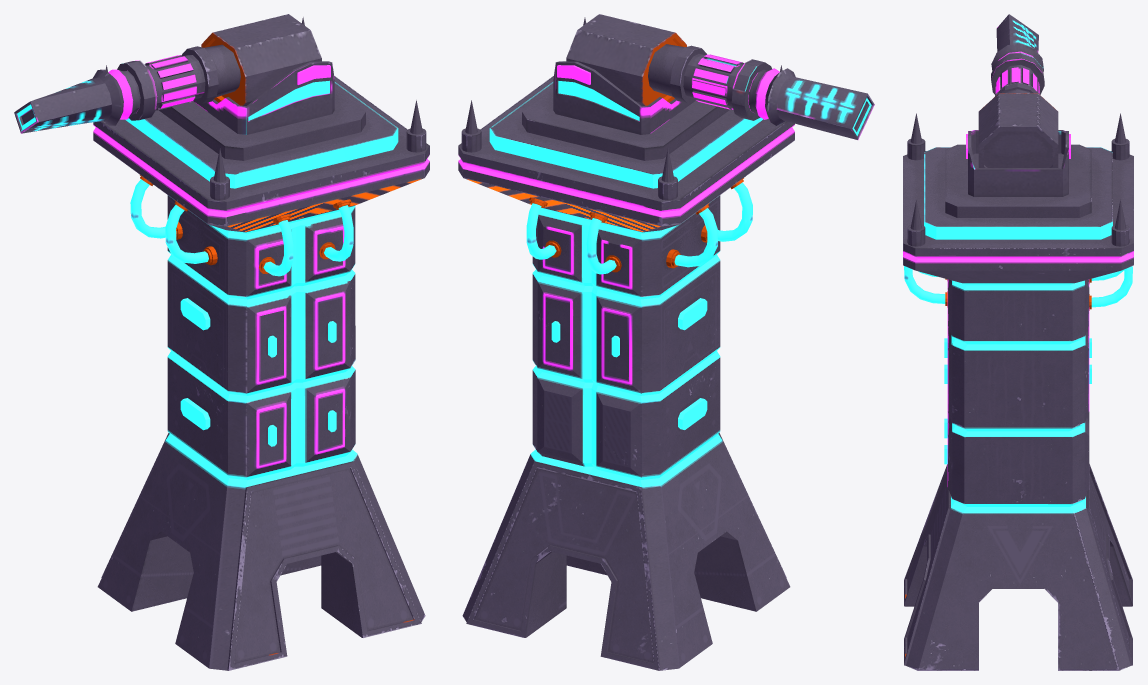
The model's file is gun_tower_laser_final.fbx.
3 renders of one model, left to right at view 1: azimuth 30°, elevation 25°; view 2: azimuth 150°, elevation 25°; view 3: azimuth 270°, elevation 25°, orthographic. The views are drawn at different scales.
Parts seen in each view (by area): view 1: tower, barrel_R.002, gun, gun_base, barrel_R.001; view 2: tower, barrel_R.002, gun, gun_base, barrel_R.001; view 3: tower, gun, gun_base, barrel_R.002.
Boxes of the visible parts, x1,y1,x2,y2 form: tower: (93, 17, 429, 670); barrel_R.002: (14, 55, 205, 133); gun: (201, 14, 321, 105); gun_base: (193, 61, 334, 134); barrel_R.001: (182, 44, 240, 103); tower: (458, 17, 794, 670); barrel_R.002: (683, 54, 874, 139); gun: (566, 14, 686, 105); gun_base: (553, 61, 695, 134); barrel_R.001: (648, 44, 706, 103); tower: (903, 113, 1133, 670); gun: (978, 93, 1058, 167); gun_base: (966, 130, 1070, 196); barrel_R.002: (991, 14, 1044, 94).
Size of the model in its own units: 1608 by 2523 by 1029.
Materials: 1 (1 with a texture image).
